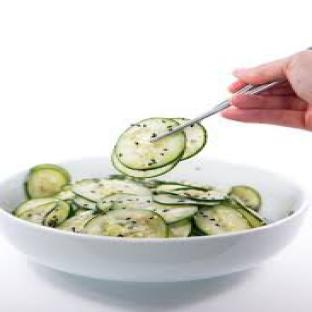Cucumber: (115, 118, 185, 170), (86, 209, 167, 238), (72, 180, 151, 201), (111, 154, 179, 178), (195, 205, 250, 234), (26, 165, 69, 198), (144, 204, 197, 223), (231, 198, 265, 226), (181, 123, 207, 159), (154, 192, 219, 205), (19, 202, 57, 224), (58, 210, 95, 232), (14, 198, 57, 216), (231, 185, 260, 211), (98, 193, 136, 211), (43, 201, 69, 226), (169, 189, 228, 200), (31, 164, 71, 180), (113, 196, 153, 208), (169, 219, 192, 238), (154, 183, 189, 192), (55, 185, 75, 200), (72, 197, 97, 209), (190, 224, 206, 235), (74, 207, 93, 216)
